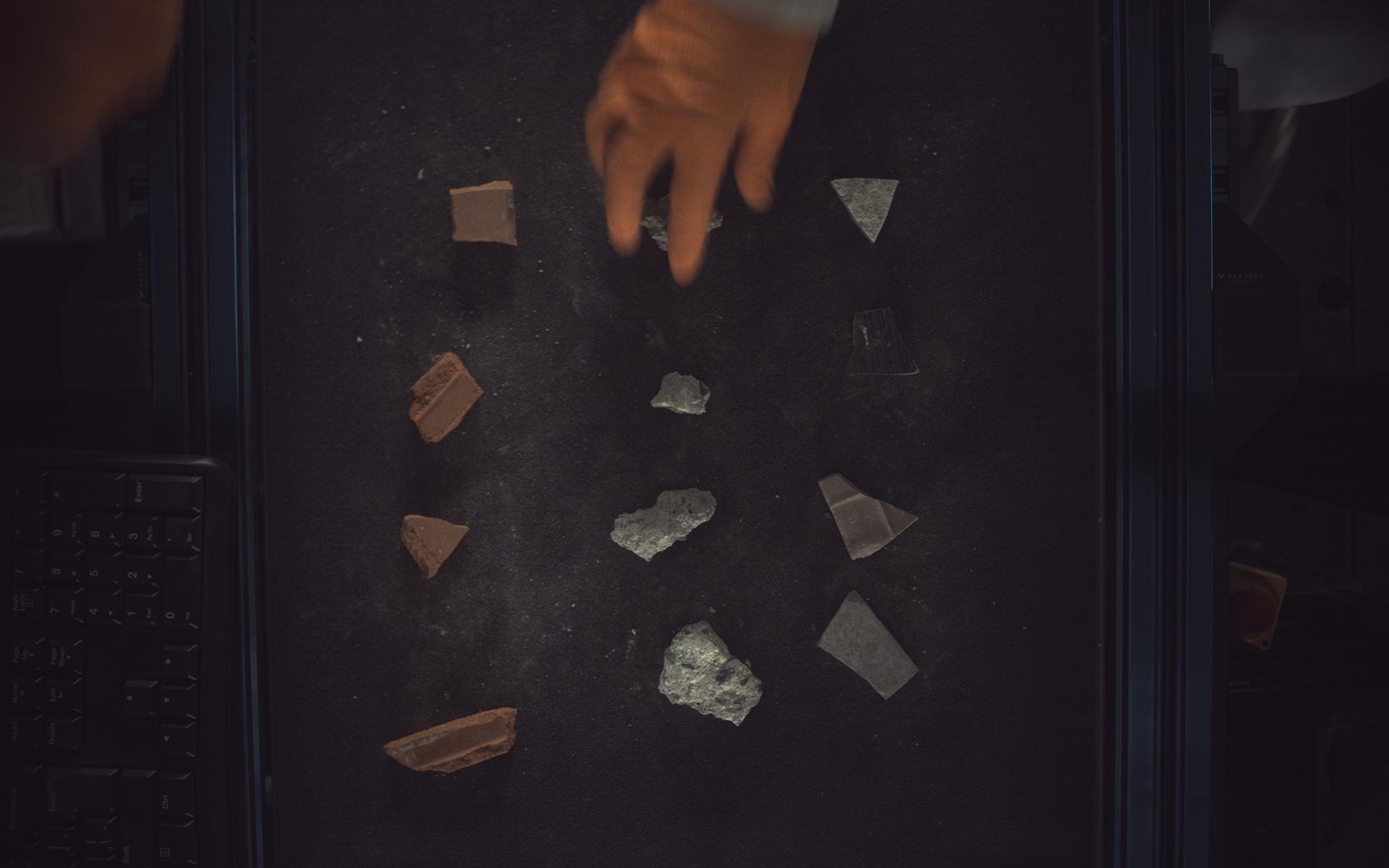brick: (384, 709, 516, 774), (409, 352, 483, 443), (401, 516, 470, 579), (450, 180, 516, 245)
concrete: (660, 621, 763, 726), (612, 489, 718, 562), (652, 372, 711, 415)
tile: (819, 591, 920, 700), (820, 475, 919, 561), (848, 307, 921, 376), (833, 177, 901, 242)
